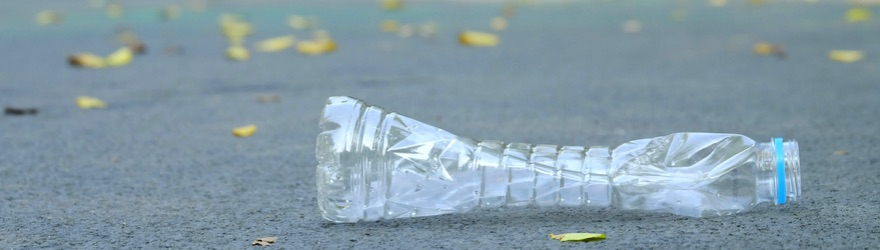plasticbottle: (314, 85, 807, 226)
